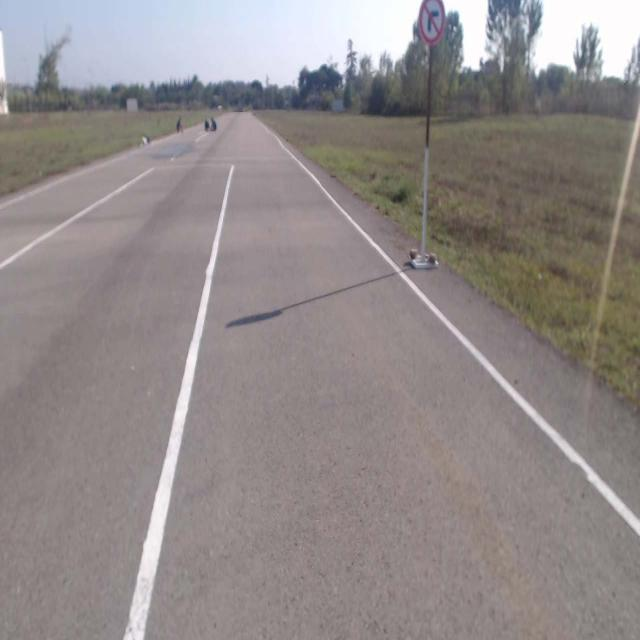sagadonulmez: (420, 1, 444, 43)
